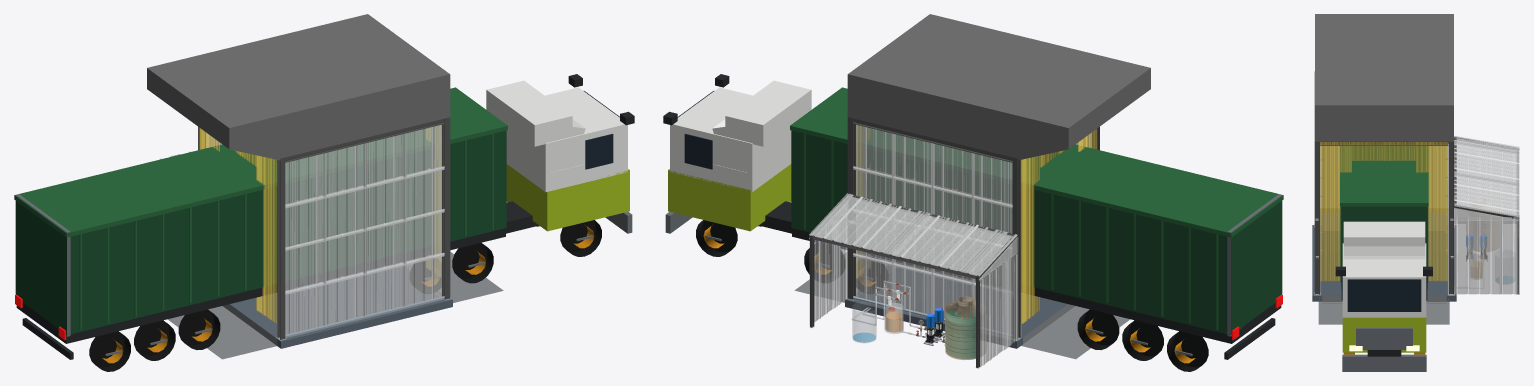
Rendered from site_simple.glb.
3 views of the same model, side by side, from view 1: azimuth 30°, elevation 25°; view 2: azimuth 150°, elevation 25°; view 3: azimuth 270°, elevation 25° (orthographic). The views are drawn at different scales.
Visible parts, largest first — view 1: Lorry, SprayHouse, ApproachRamps; view 2: Lorry, SprayHouse, ApproachRamps, TankLiquids; view 3: SprayHouse, Lorry, ApproachRamps.
Part boxes in pixels (bbox=[...]): Lorry: bbox=[14, 74, 634, 371]; SprayHouse: bbox=[147, 14, 452, 348]; ApproachRamps: bbox=[168, 252, 503, 359]; Lorry: bbox=[663, 74, 1283, 371]; SprayHouse: bbox=[809, 14, 1150, 368]; ApproachRamps: bbox=[794, 252, 1129, 359]; TankLiquids: bbox=[852, 302, 975, 358]; SprayHouse: bbox=[1312, 14, 1519, 303]; Lorry: bbox=[1335, 146, 1432, 371]; ApproachRamps: bbox=[1318, 209, 1449, 324].
Bounding box in the file's own units: 16.56 × 6.45 × 6.18.
